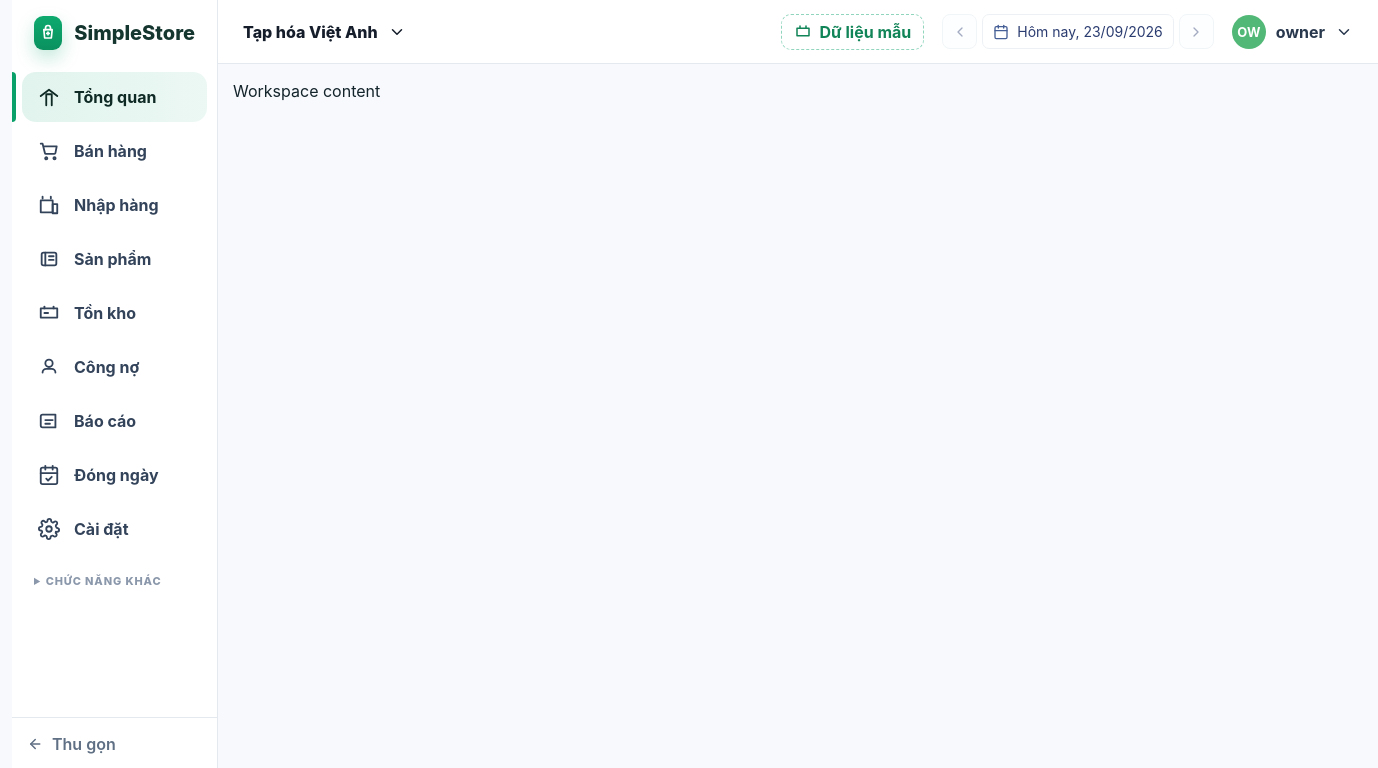
Test case: AppShell › shows the Today date control and its browser-only preview toggle
Expected: the element with class "today-date-control" reads "Hôm nay, 23/09/2026", x1=1017 y1=23 x2=1163 y2=40
Expected: the button named "Ngày sau" is disabled, x1=1179 y1=14 x2=1214 y2=49
Click the button with class "app-mock-toggle".
click(852, 32)  # box x1=781 y1=14 x2=924 y2=50
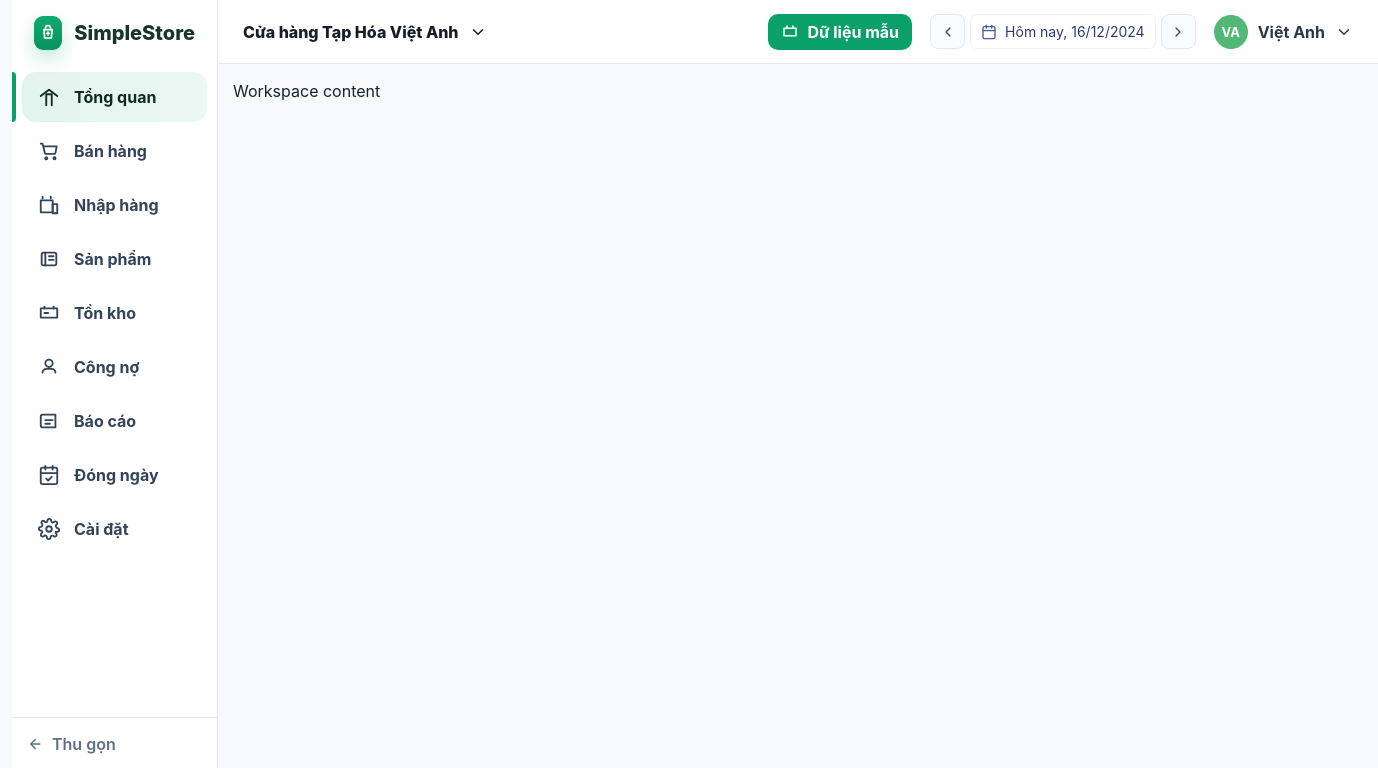
Expected: the header with class "app-topbar" shows "Cửa hàng Tạp Hóa Việt Anh", x1=243 y1=22 x2=458 y2=42
Expected: the element with class "today-date-control" reads "Hôm nay, 16/12/2024", x1=970 y1=14 x2=1156 y2=49
Click the button named "Ngày sau".
click(1178, 32)  # box x1=1161 y1=14 x2=1196 y2=49
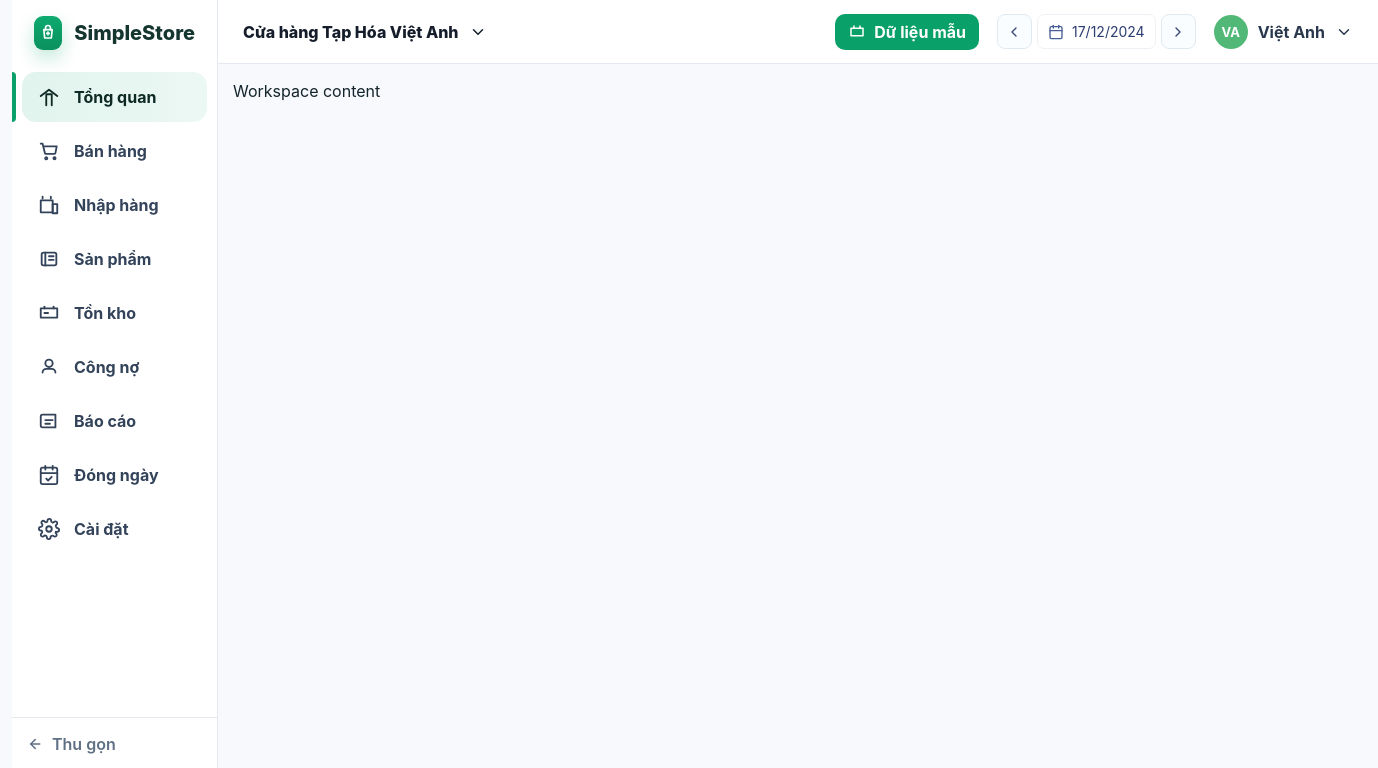
Expected: the element with class "today-date-control" reads "17/12/2024", x1=1037 y1=14 x2=1156 y2=49
Click the button named "Ngày trước".
click(1014, 32)  # box x1=997 y1=14 x2=1032 y2=49
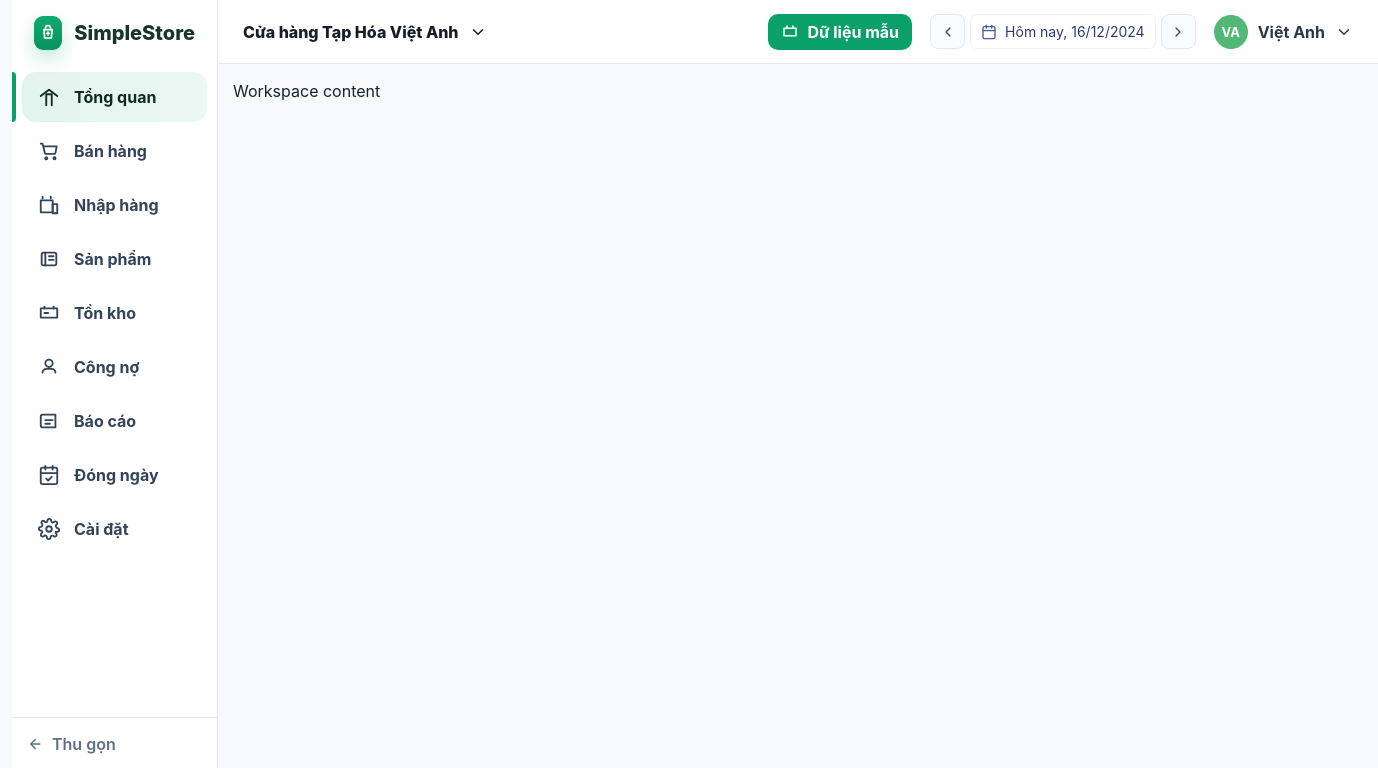
Expected: the element with class "today-date-control" reads "Hôm nay, 16/12/2024", x1=970 y1=14 x2=1156 y2=49
